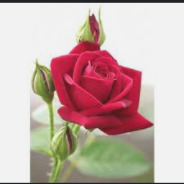RedRose: (47, 37, 160, 135)
